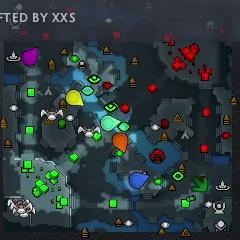p1: (130, 172, 149, 188)
p2: (101, 115, 121, 131)
p3: (22, 48, 38, 66)
p4: (67, 89, 84, 106)
p5: (112, 132, 128, 153)
x4: (193, 176, 208, 193)
